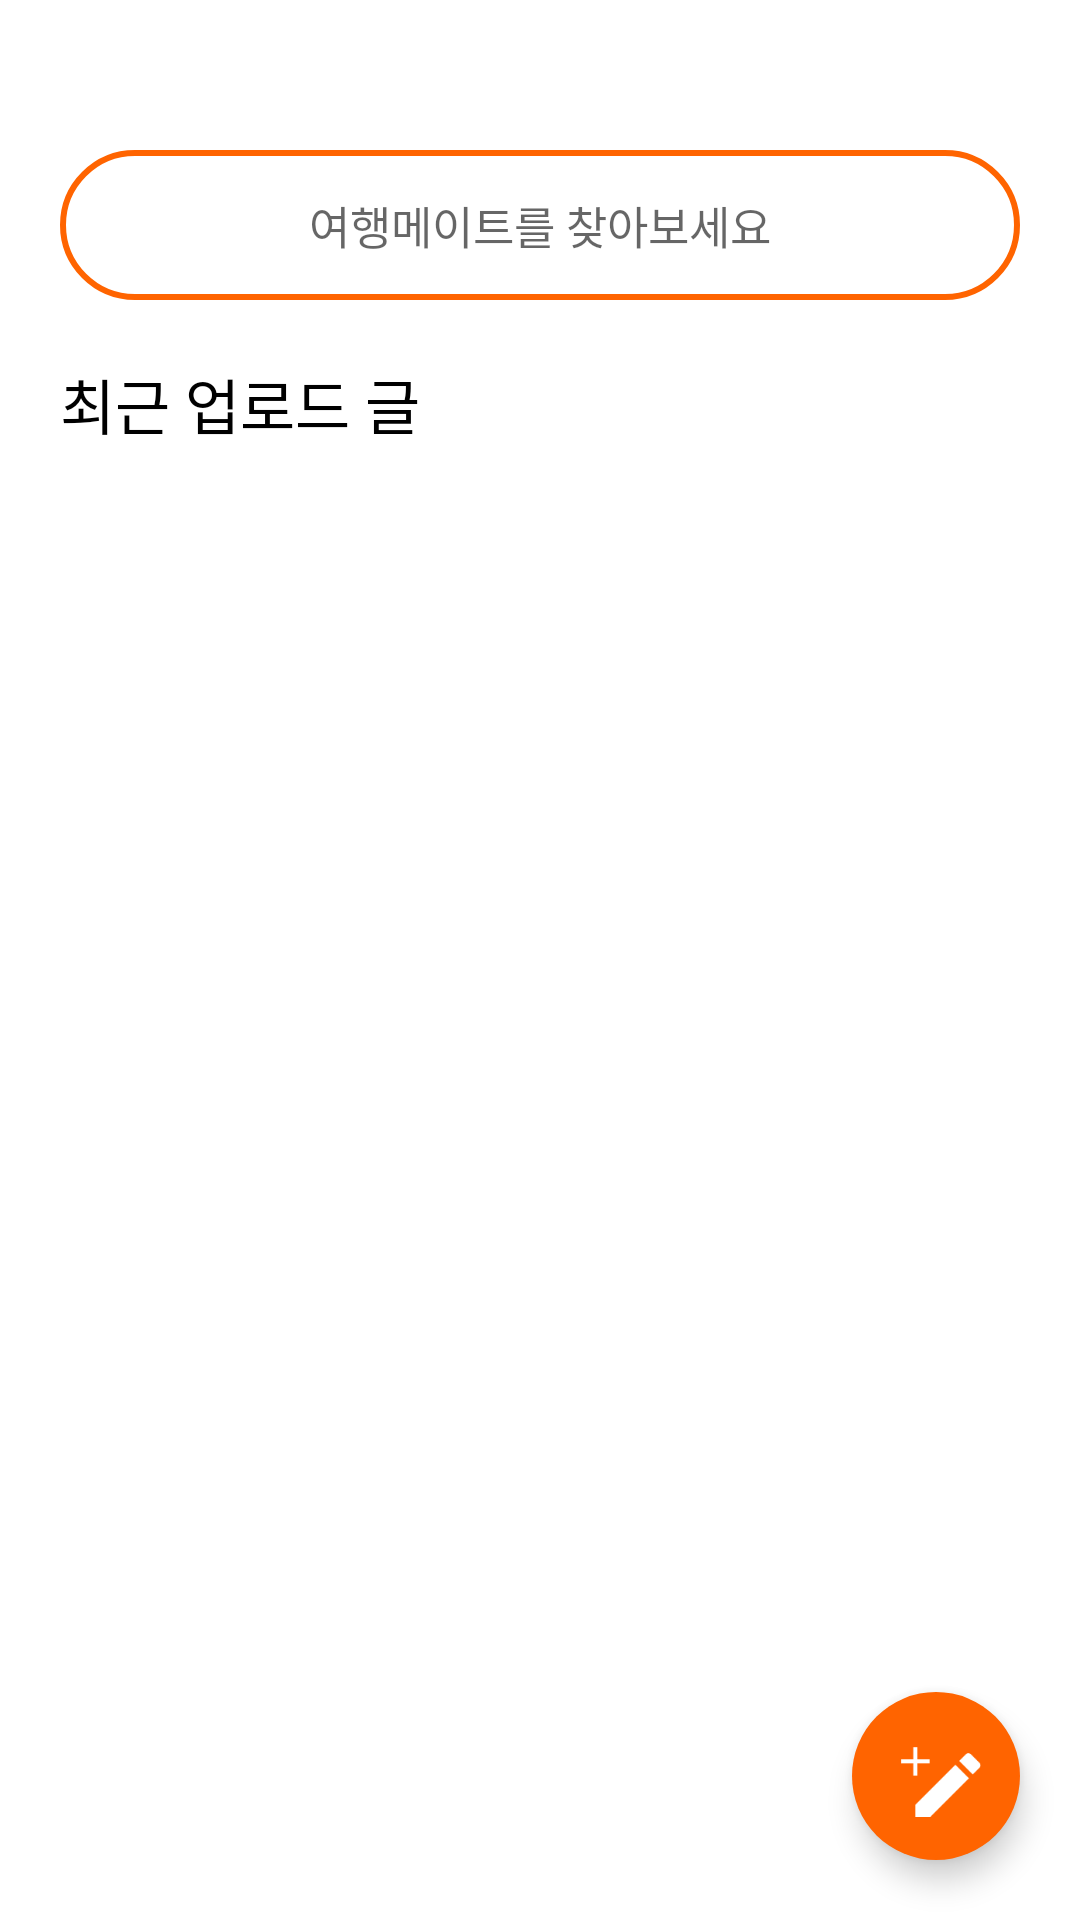

Locate icon controls on the screen. Image size 1080×1920, boxes as (x1, y1, x2, y2).
add write: (852, 1692, 1020, 1860)
